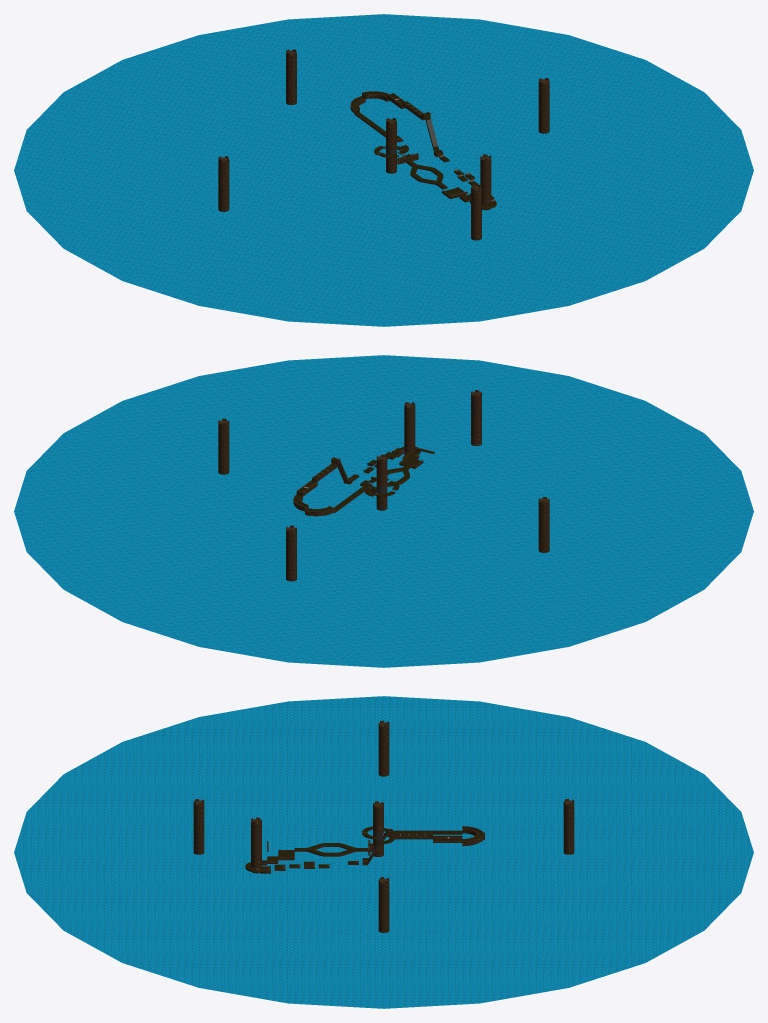
3 views of the same model, one above another, from view 1: azimuth 30°, elevation 25°; view 2: azimuth 150°, elevation 25°; view 3: azimuth 270°, elevation 25° (orthographic).
Visible parts, largest first — view 1: course-SKP--tower_water, course-SKP--tower_wall, course-SKP--tower_road; view 2: course-SKP--tower_water, course-SKP--tower_wall, course-SKP--tower_road; view 3: course-SKP--tower_water, course-SKP--tower_wall, course-SKP--tower_road.
Part boxes in pixels (bbox=[...]): course-SKP--tower_water: bbox=[14, 14, 753, 326]; course-SKP--tower_wall: bbox=[218, 49, 549, 240]; course-SKP--tower_road: bbox=[351, 92, 496, 207]; course-SKP--tower_water: bbox=[14, 355, 753, 667]; course-SKP--tower_wall: bbox=[218, 390, 549, 581]; course-SKP--tower_road: bbox=[294, 446, 421, 511]; course-SKP--tower_water: bbox=[14, 696, 753, 1008]; course-SKP--tower_wall: bbox=[193, 720, 574, 932]; course-SKP--tower_road: bbox=[245, 826, 483, 870].
Bounding box in the file's own units: 404404 × 31000 × 404404.
Materials: 8 (8 with a texture image).
